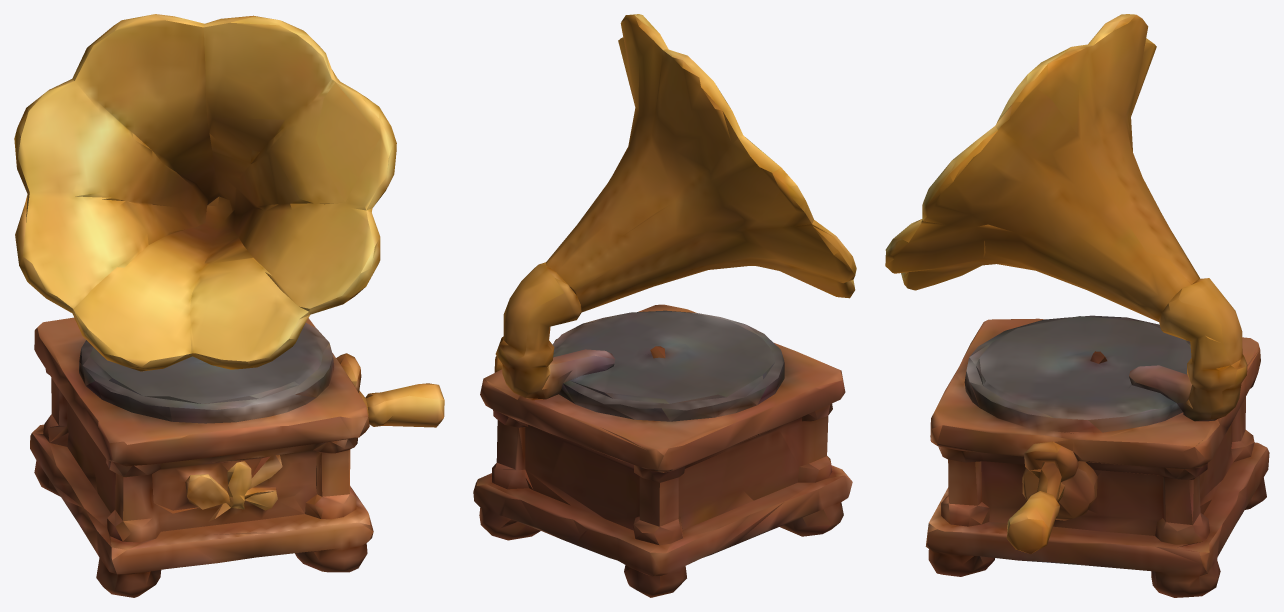
File: deco33.glb
3 renders of one model, left to right at view 1: azimuth 30°, elevation 25°; view 2: azimuth 150°, elevation 25°; view 3: azimuth 270°, elevation 25°, orthographic. The views are drawn at different scales.
Size of the model in its own units: 0.2358 by 0.2946 by 0.2023.
1 material, 1 textured.
